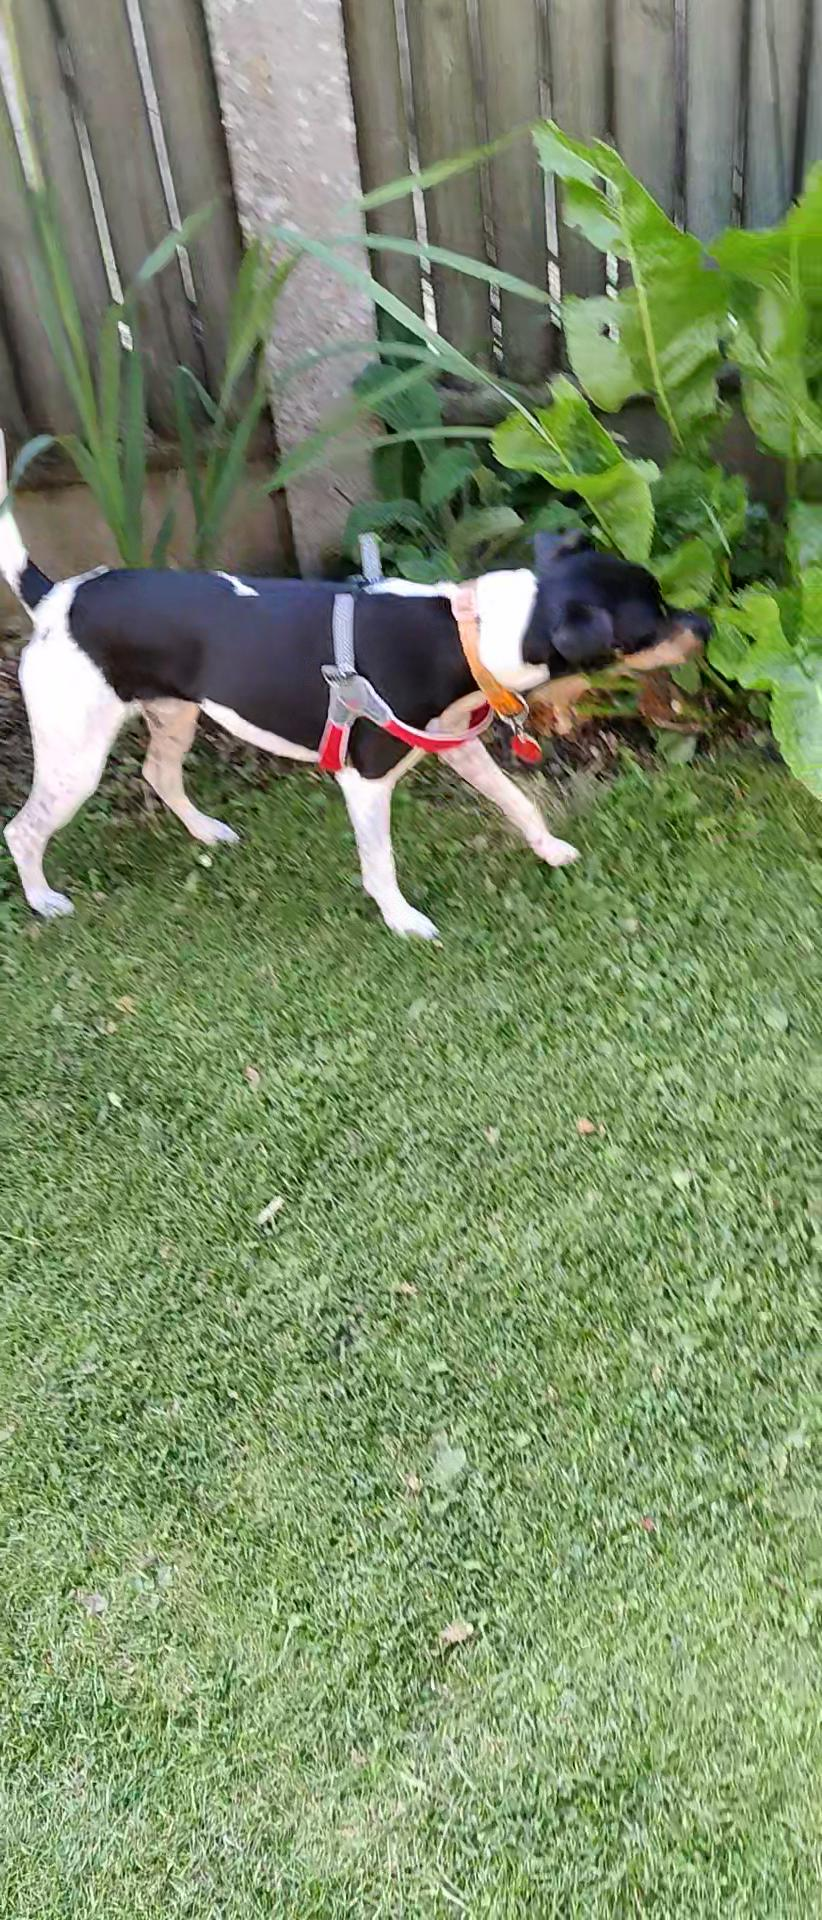Dog: (0, 489, 769, 944)
